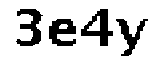3: (15, 5, 45, 47)
4: (81, 5, 116, 52)
e: (48, 14, 81, 49)
y: (116, 15, 150, 60)
